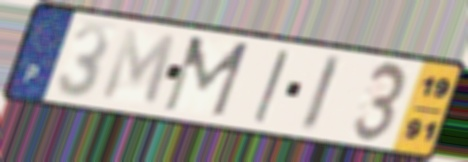3: (350, 59, 410, 145), (55, 20, 114, 99)
I: (297, 52, 345, 134), (250, 47, 292, 126)
M: (159, 34, 253, 121), (97, 26, 180, 110)
